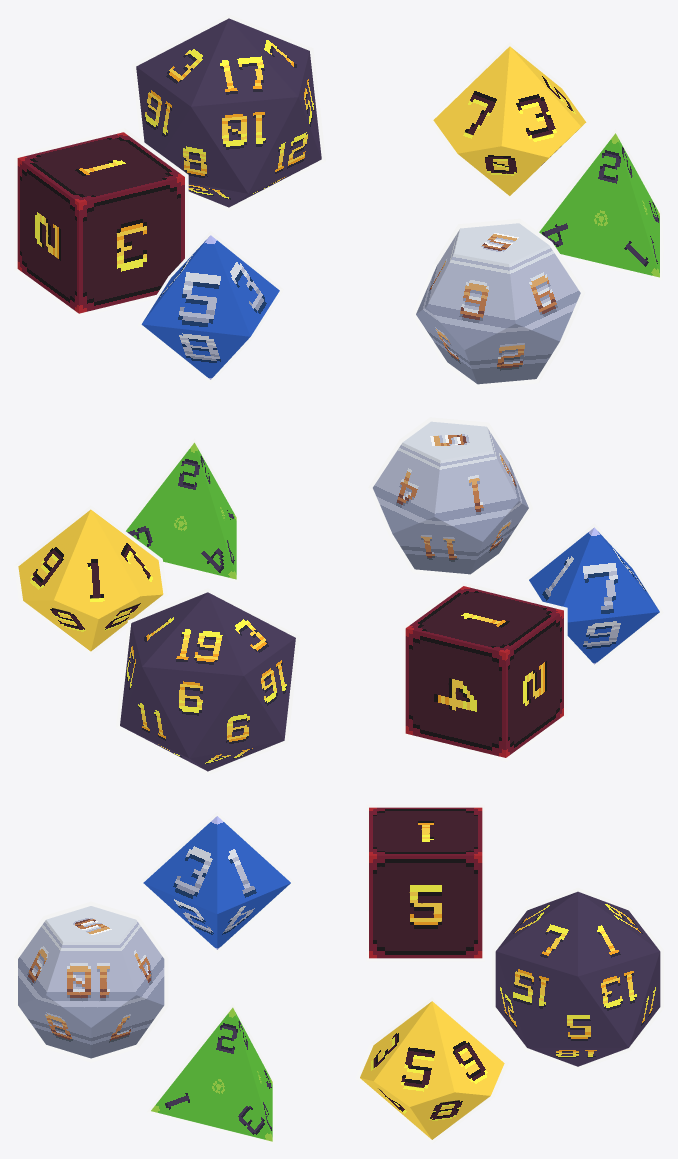
File: dice_set.glb
3 renders of one model, top to bottom at view 1: azimuth 30°, elevation 25°; view 2: azimuth 150°, elevation 25°; view 3: azimuth 270°, elevation 25°, orthographic. The views are drawn at different scales.
Parts seen in each view (by area): view 1: d20, d6, d12, d10, d8, d4; view 2: d20, d6, d12, d10, d8, d4; view 3: d20, d12, d6, d10, d8, d4.
Part boxes in pixels (<box>): d20: <box>132,14,325,211</box>; d6: <box>14,128,188,317</box>; d12: <box>411,218,585,388</box>; d10: <box>429,42,590,200</box>; d8: <box>137,231,283,383</box>; d4: <box>536,129,663,280</box>; d20: <box>116,588,299,775</box>; d6: <box>402,582,567,761</box>; d12: <box>368,417,533,578</box>; d10: <box>14,505,167,655</box>; d8: <box>525,523,663,668</box>; d4: <box>123,438,240,582</box>; d20: <box>492,887,663,1070</box>; d12: <box>14,901,168,1062</box>; d6: <box>366,804,484,961</box>; d10: <box>355,997,508,1143</box>; d8: <box>139,812,295,953</box>; d4: <box>146,1003,276,1144</box>.
Bounding box in the file's own units: 8.04 × 2.73 × 8.78.
2 materials, 1 textured.
